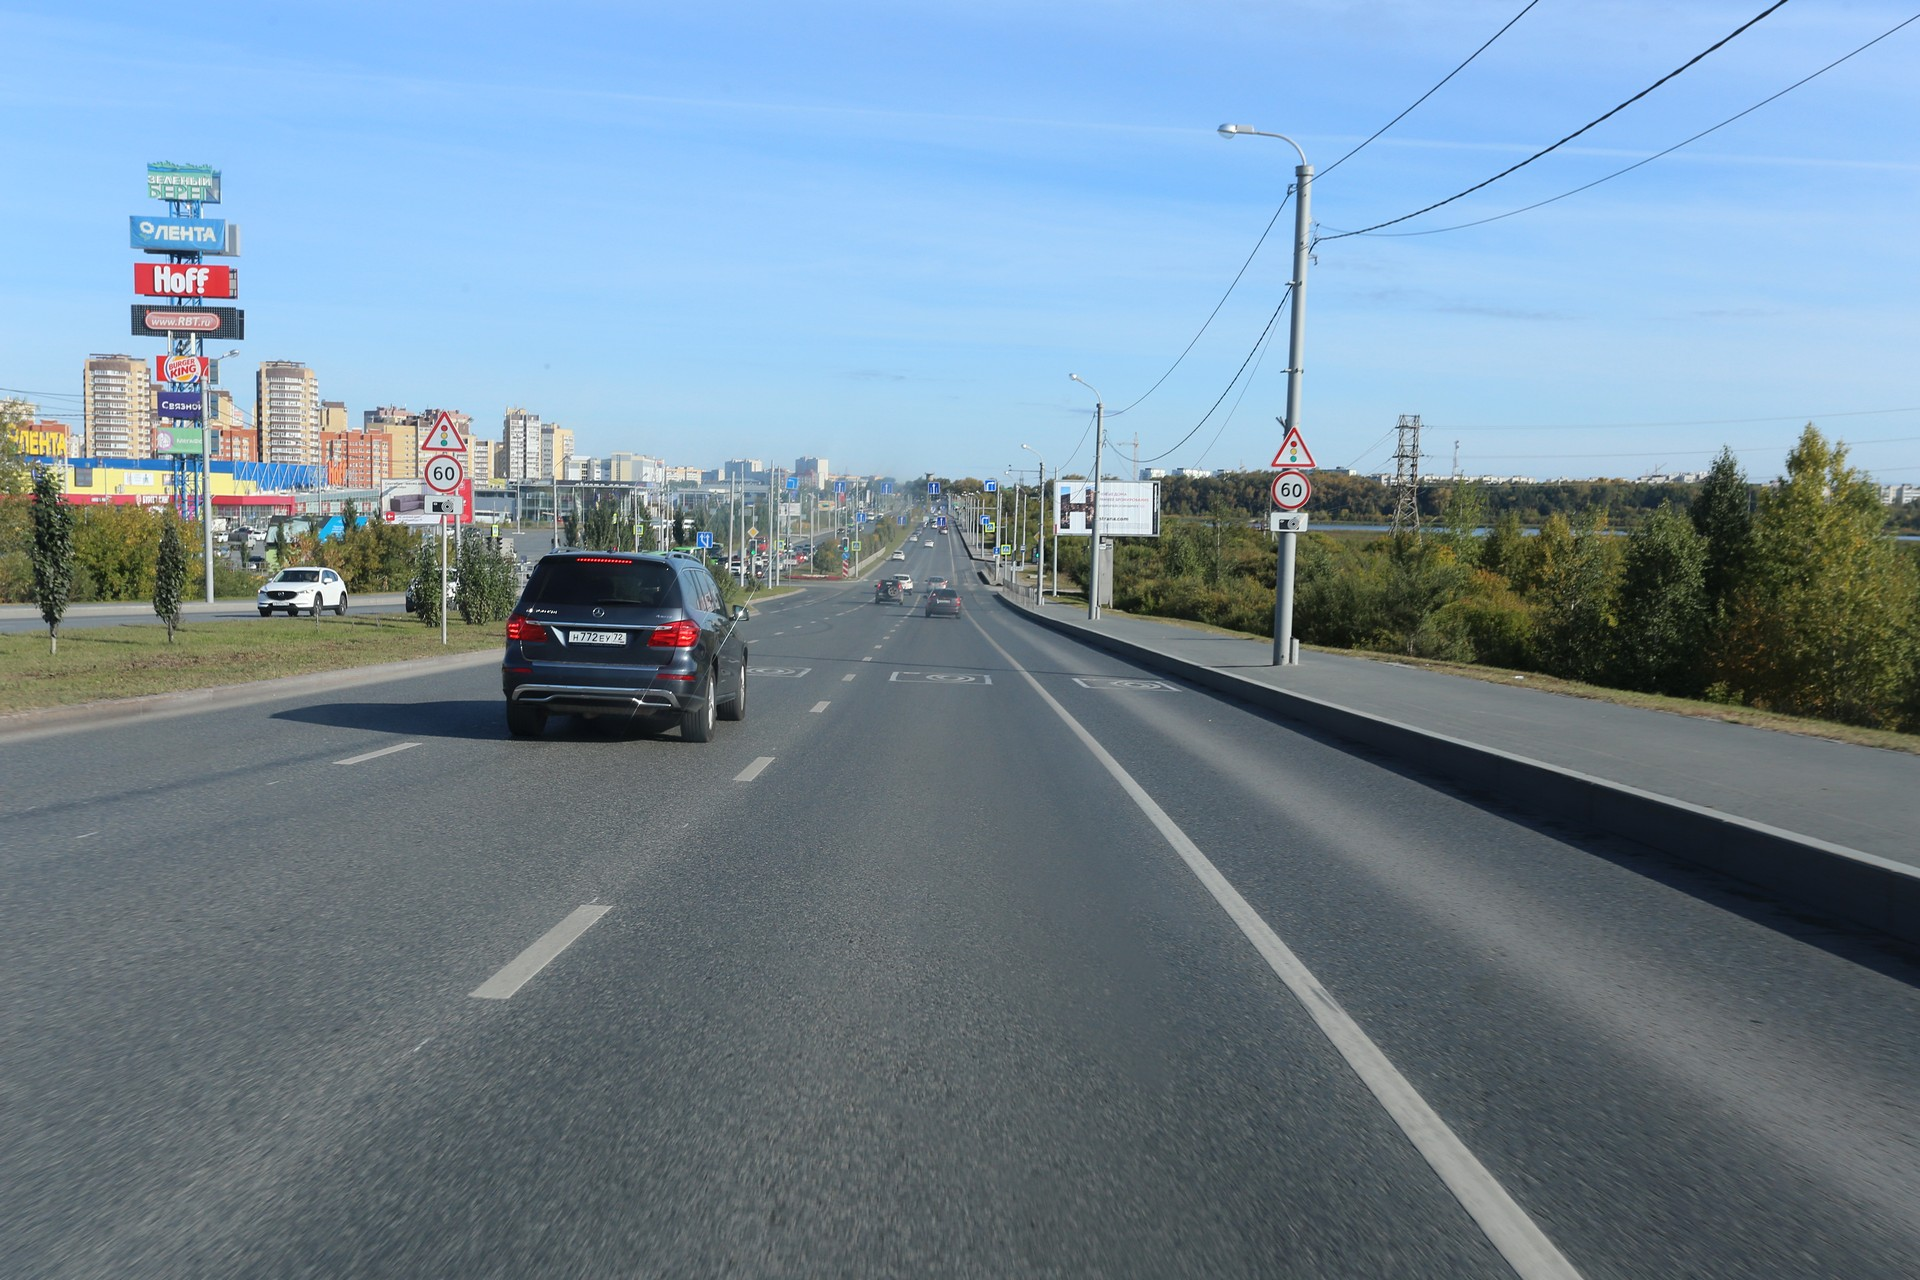sign: (419, 410, 469, 456), (1270, 427, 1319, 471), (1269, 469, 1311, 511), (423, 454, 464, 491), (1269, 509, 1311, 534), (424, 490, 464, 517), (696, 530, 714, 550), (927, 480, 941, 496), (934, 514, 949, 529), (833, 480, 847, 494), (786, 476, 799, 491), (746, 526, 760, 539), (999, 541, 1011, 556), (983, 479, 997, 491), (880, 481, 893, 496), (631, 523, 644, 536), (773, 539, 786, 551), (854, 511, 867, 524), (850, 540, 861, 553), (1033, 531, 1046, 543), (896, 514, 909, 526), (979, 514, 990, 526), (984, 521, 996, 533), (781, 559, 799, 566), (1019, 543, 1027, 553), (991, 546, 1001, 554)
